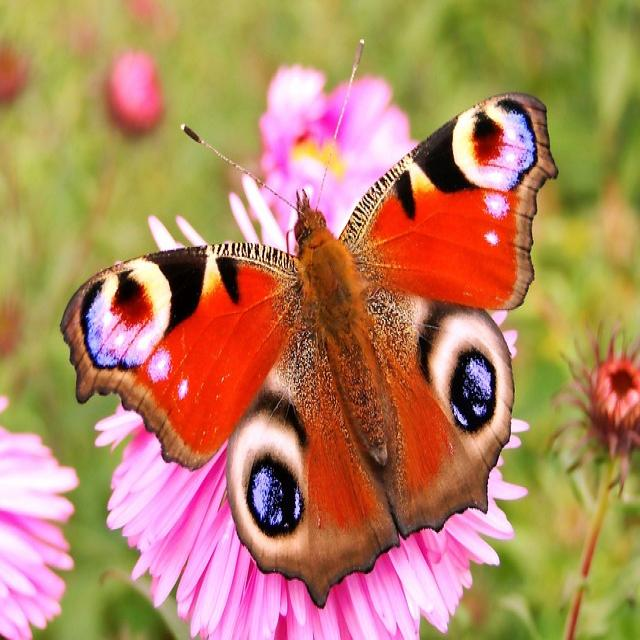butterfly: (61, 94, 559, 608)
